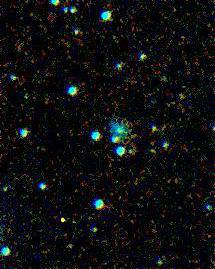star: (46, 204, 76, 234)
